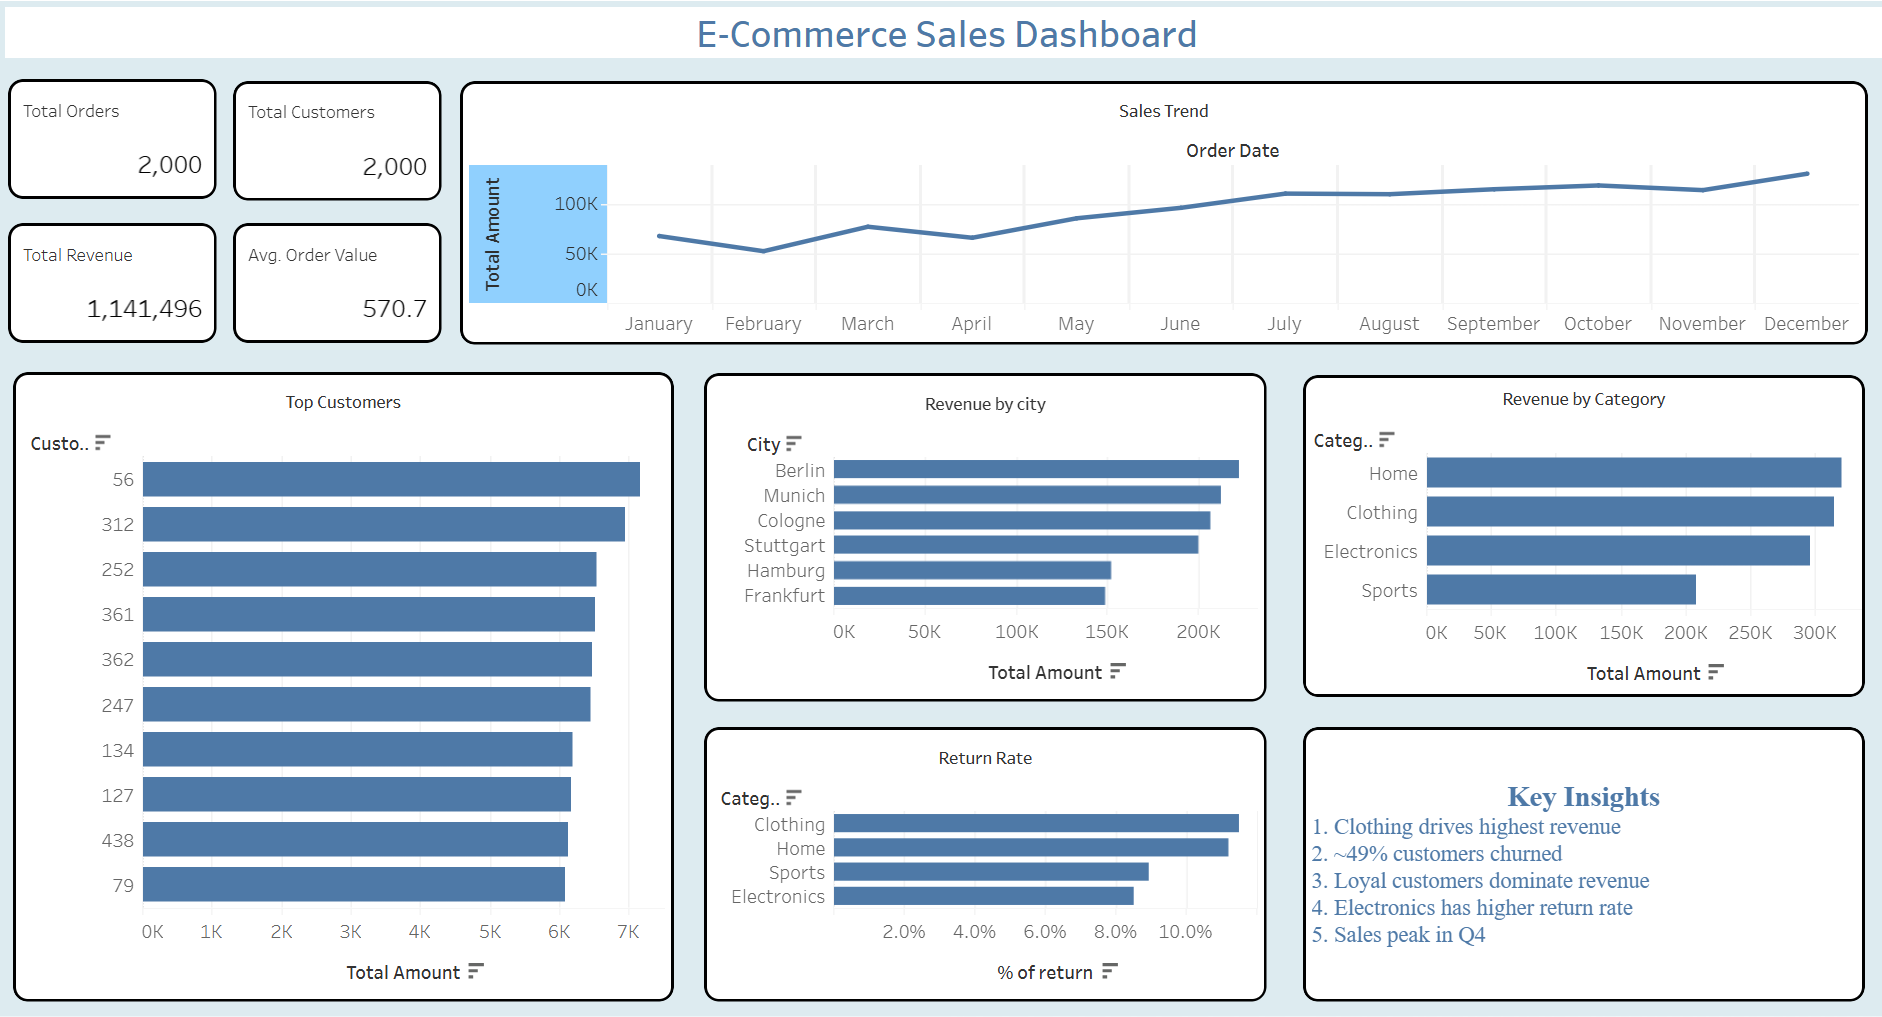

The dashboard page shown, as its layout file describes it:
{"tool":"tableau","page":{"name":"Dashboard 1","canvas":[1000,1000],"units":"permille","ordinal":0},"visuals":[{"type":"title","box":[5,9.9,990,72]},{"type":"worksheet","title":"Total Orders","mark":"Automatic","box":[11.2,86.9,108.5,115.4]},{"type":"worksheet","title":"Total Customers","mark":"Automatic","box":[128.4,88.1,108.5,115.4]},{"type":"worksheet","title":"Sales Trend","mark":"Automatic","rows":["total_amount"],"cols":["order_date"],"box":[246.3,88.1,733.2,254.3]},{"type":"worksheet","title":"Total Revenue","mark":"Automatic","box":[11.2,225.8,108.5,115.4]},{"type":"worksheet","title":"Avg. Order Value","mark":"Automatic","box":[128.4,225.8,108.5,115.4]},{"type":"worksheet","title":"Top Customers","mark":"Automatic","rows":["customer_id"],"cols":["total_amount"],"box":[13.1,368.5,344.8,605.5]},{"type":"worksheet","title":"Revenue by city","mark":"Automatic","rows":["city"],"cols":["total_amount"],"box":[373.4,369.7,293,316.4]},{"type":"worksheet","title":"Revenue by Category","mark":"Automatic","rows":["category"],"cols":["total_amount"],"box":[685.2,371,293,310.2]},{"type":"worksheet","title":"Return Rate","mark":"Automatic","rows":["category"],"cols":["Calculation_0743603808612361"],"box":[373.4,709.7,293,264.3]},{"type":"text","box":[685.2,709.7,293,264.3]}]}

Visuals, with their boxes on the dashboard's canvas, which has no fixed pixel size, in thousandths of its width and height (x1, y1, x2, y2). These are canvas units, not pixel positions in the 1882x1017 screenshot, which may show the page scaled, cropped or inside an application window:
title: detection(5, 10, 995, 82)
"Total Orders" worksheet: detection(11, 87, 120, 202)
"Total Customers" worksheet: detection(128, 88, 237, 204)
"Sales Trend" worksheet: detection(246, 88, 980, 342)
"Total Revenue" worksheet: detection(11, 226, 120, 341)
"Avg. Order Value" worksheet: detection(128, 226, 237, 341)
"Top Customers" worksheet: detection(13, 368, 358, 974)
"Revenue by city" worksheet: detection(373, 370, 666, 686)
"Revenue by Category" worksheet: detection(685, 371, 978, 681)
"Return Rate" worksheet: detection(373, 710, 666, 974)
text: detection(685, 710, 978, 974)
